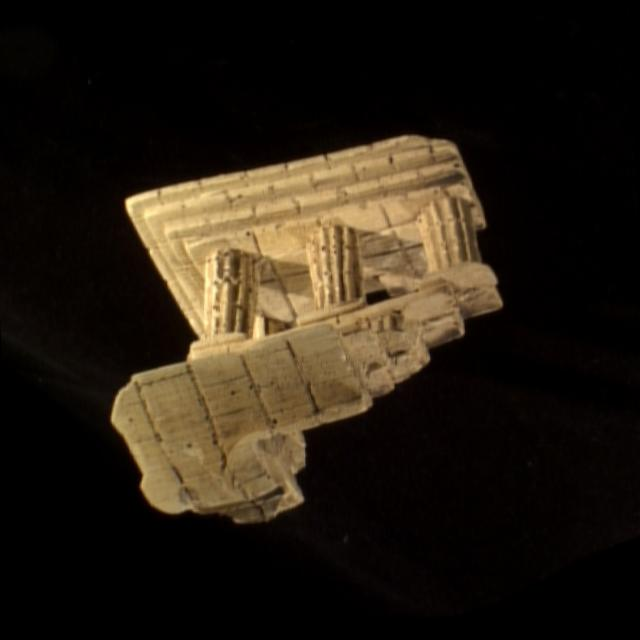Instance-Segmentation: (112, 135, 500, 522)
